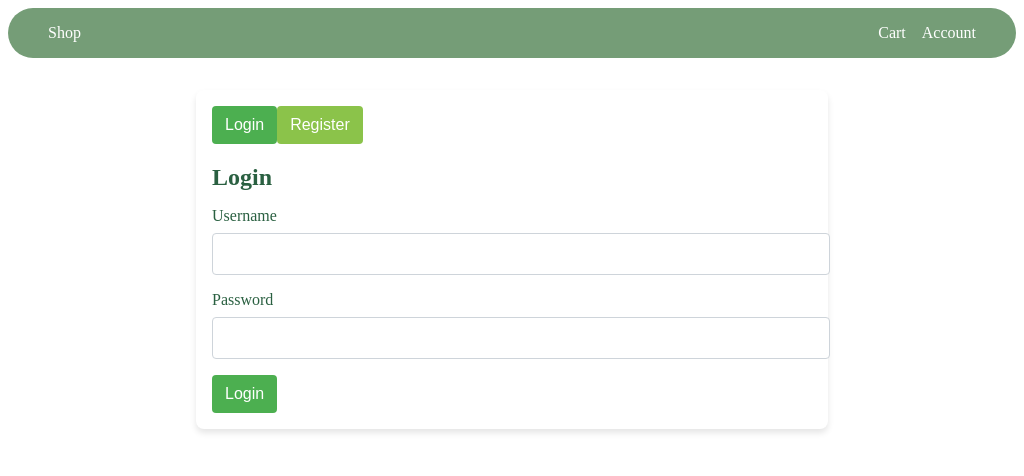
Scenario: Account › should fail to login with wrong credentials
Type "usertest1" into the field named "username" at (521, 254), box 212,233 -> 830,275
Type "Password123!" into the password field named "password" at (521, 338), box 212,317 -> 830,359
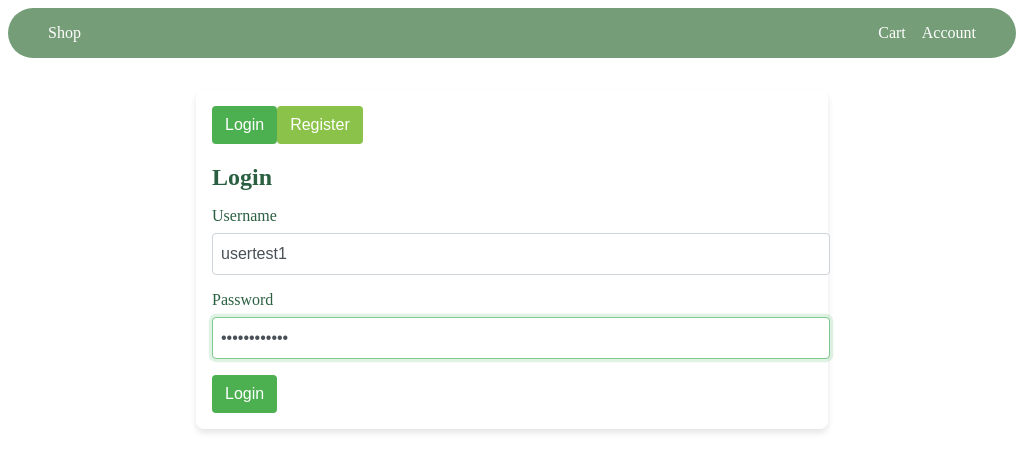
Click the submit button at (245, 394), box 212,375 -> 277,413
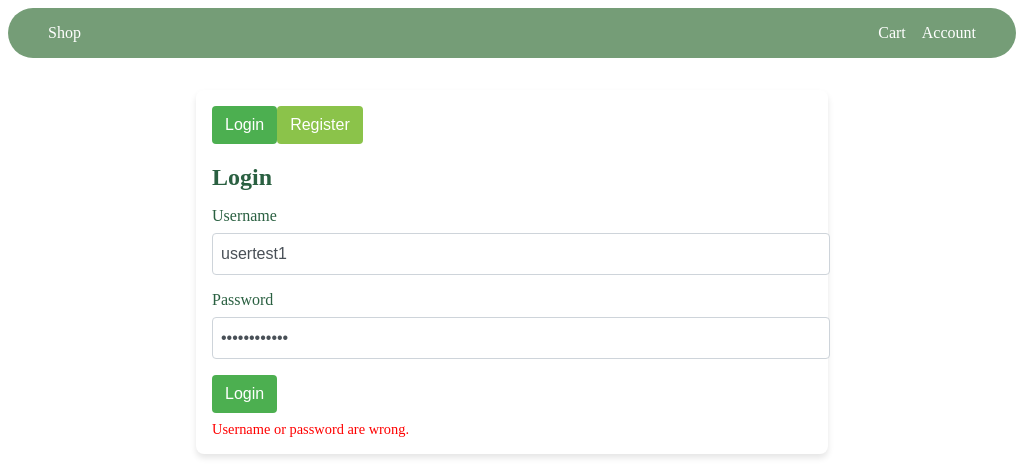
Expected: the text with class "error-message" reads "Username or password are wrong.", 212,421 -> 409,437
Open "/account"
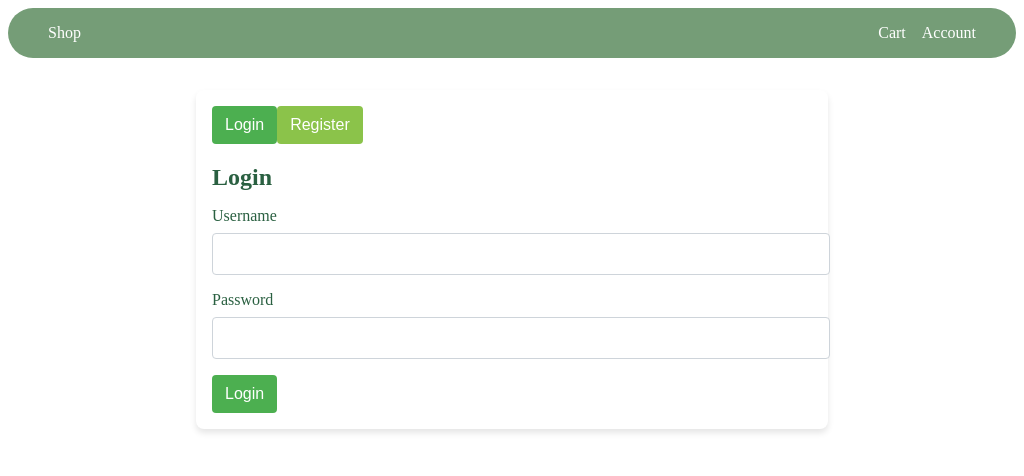
Type "usertest" into the field named "username" at (521, 254), box 212,233 -> 830,275
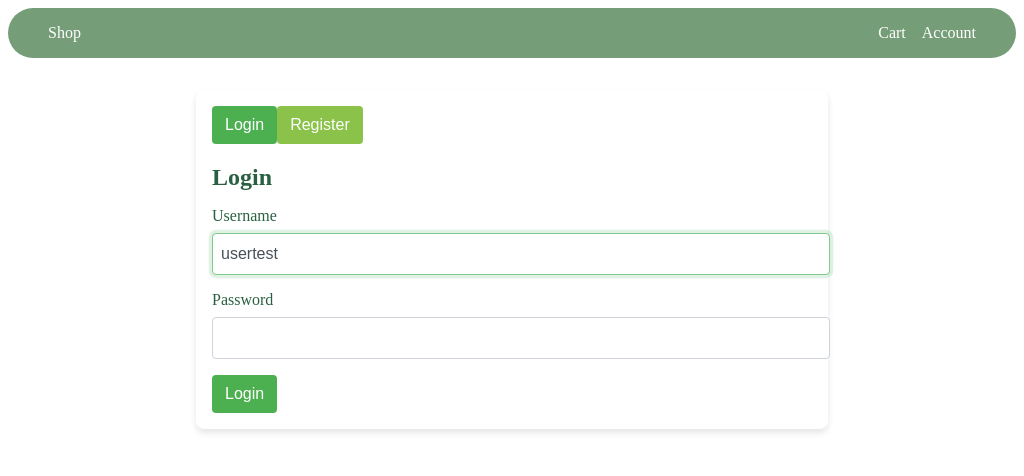
Type "Password123" into the password field named "password" at (521, 338), box 212,317 -> 830,359
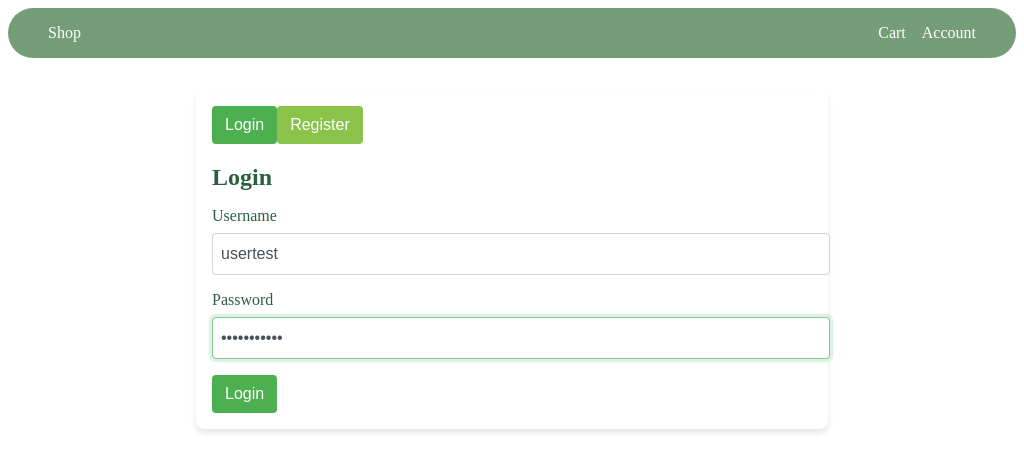
Click the submit button at (245, 394), box 212,375 -> 277,413
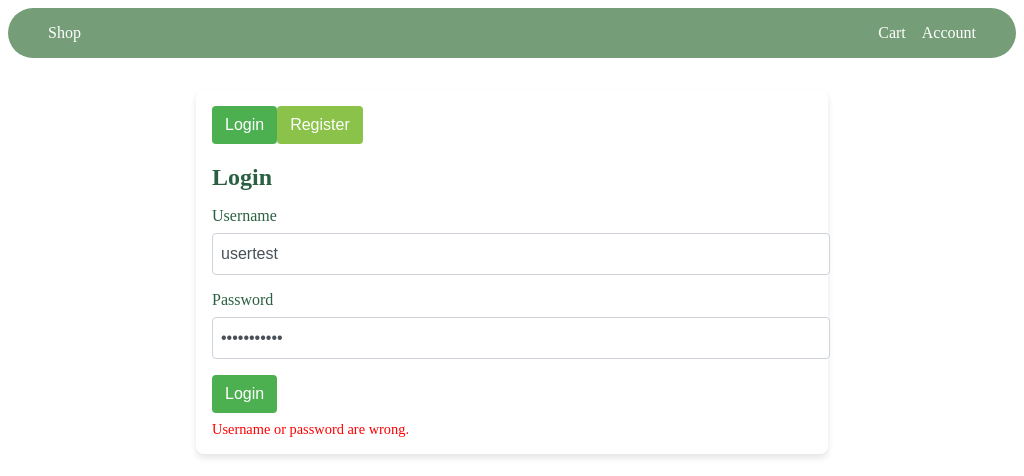
Expected: the text with class "error-message" reads "Username or password are wrong.", 212,421 -> 409,437
